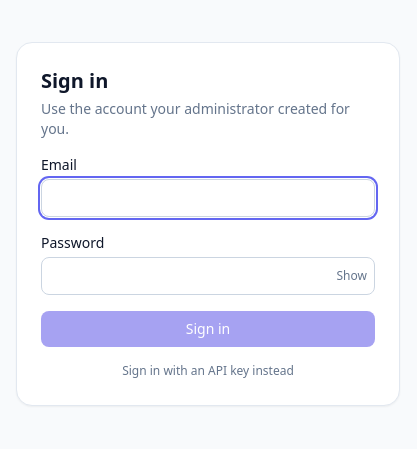
Test: LoginPage › explains a 'invalid_credentials' failure in plain language and clears the password
Type "ada@acme.test" into the field labelled "Email". click: [208, 198]
box: x1=41 y1=179 x2=375 y2=217
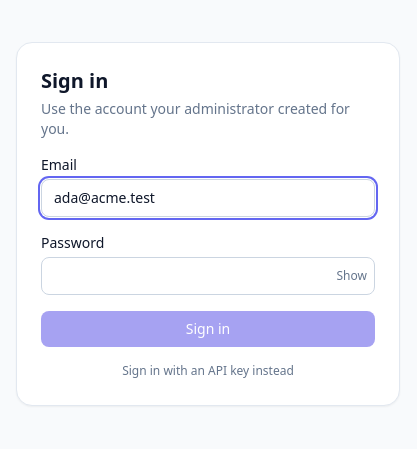
Type "correct-horse-1" into the password field labelled "Password". click: [208, 276]
box: x1=41 y1=257 x2=375 y2=295
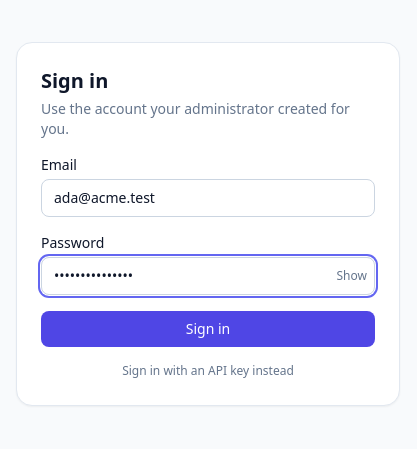
Click the button "Sign in". click: [208, 329]
box: x1=41 y1=311 x2=375 y2=347
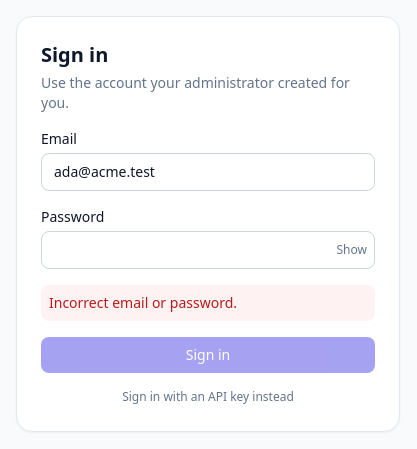
Check: the message reads "Incorrect email or password.", box x1=49 y1=293 x2=237 y2=312
Check: the password field labelled "Password" is empty, box x1=41 y1=231 x2=375 y2=269
